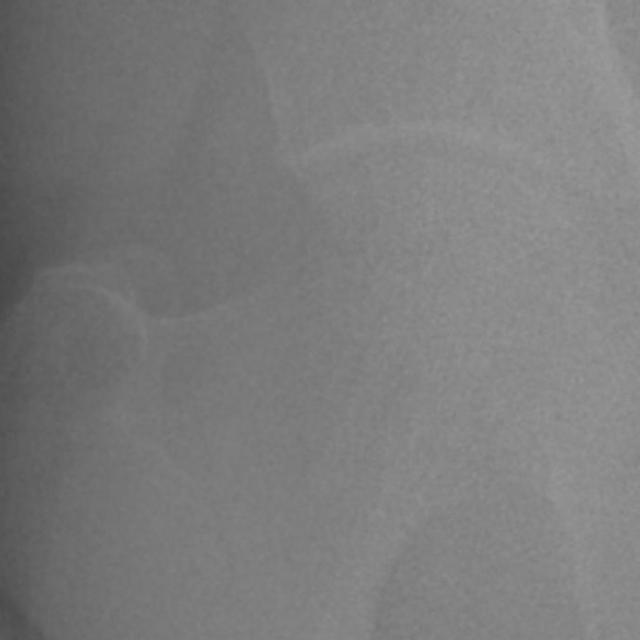Fitted_femural_head: (376, 159, 432, 376)
